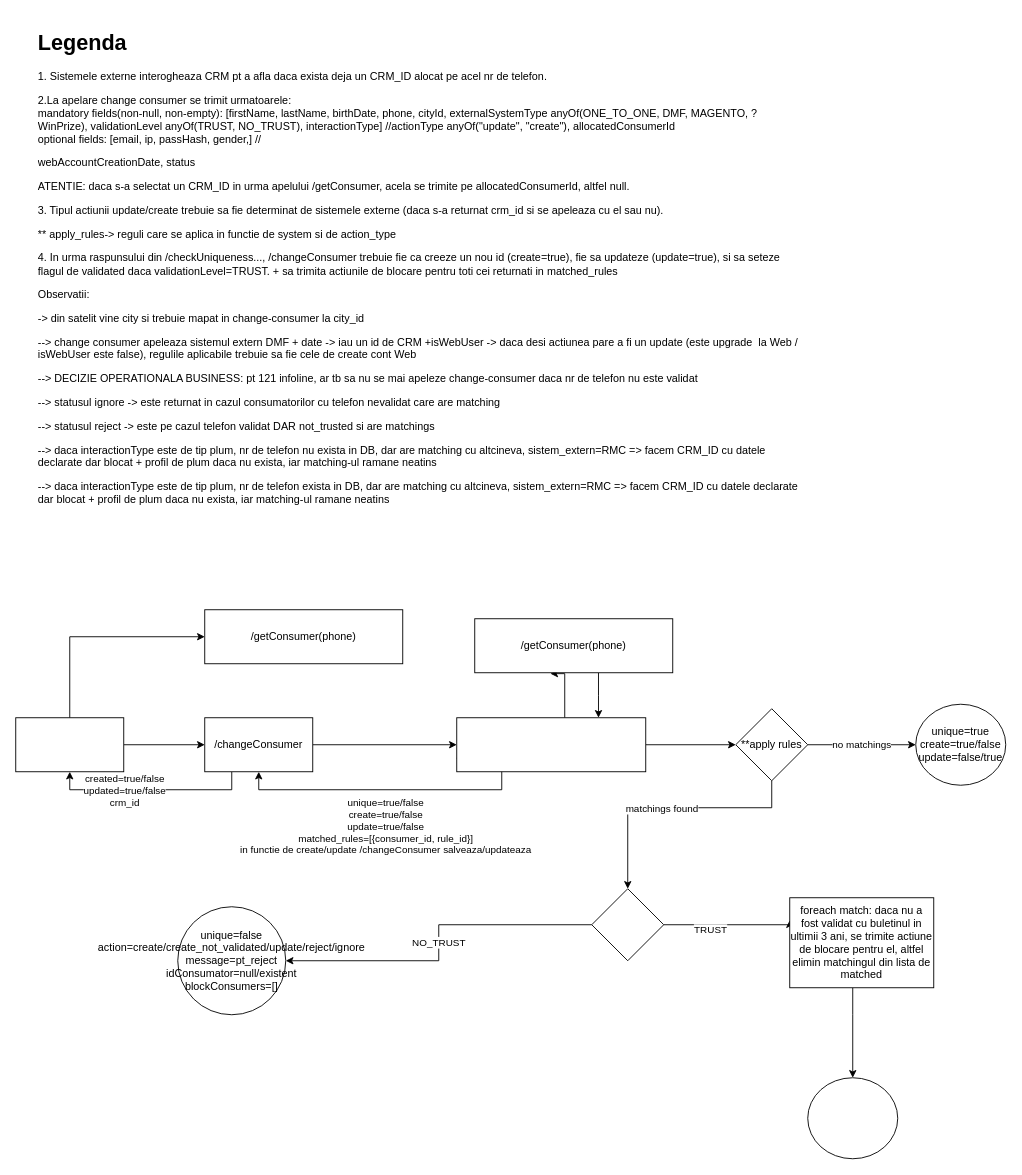
This 1022x1175 diagram has some shape labels left out. Each missing label, with the centre of its shape:
"/checkUniquenessNonBlocked" goes at (x=551, y=744).
"ExternalSystems" goes at (x=69, y=744).
"unique=false create=true/false update=false/true" goes at (x=852, y=1118).
